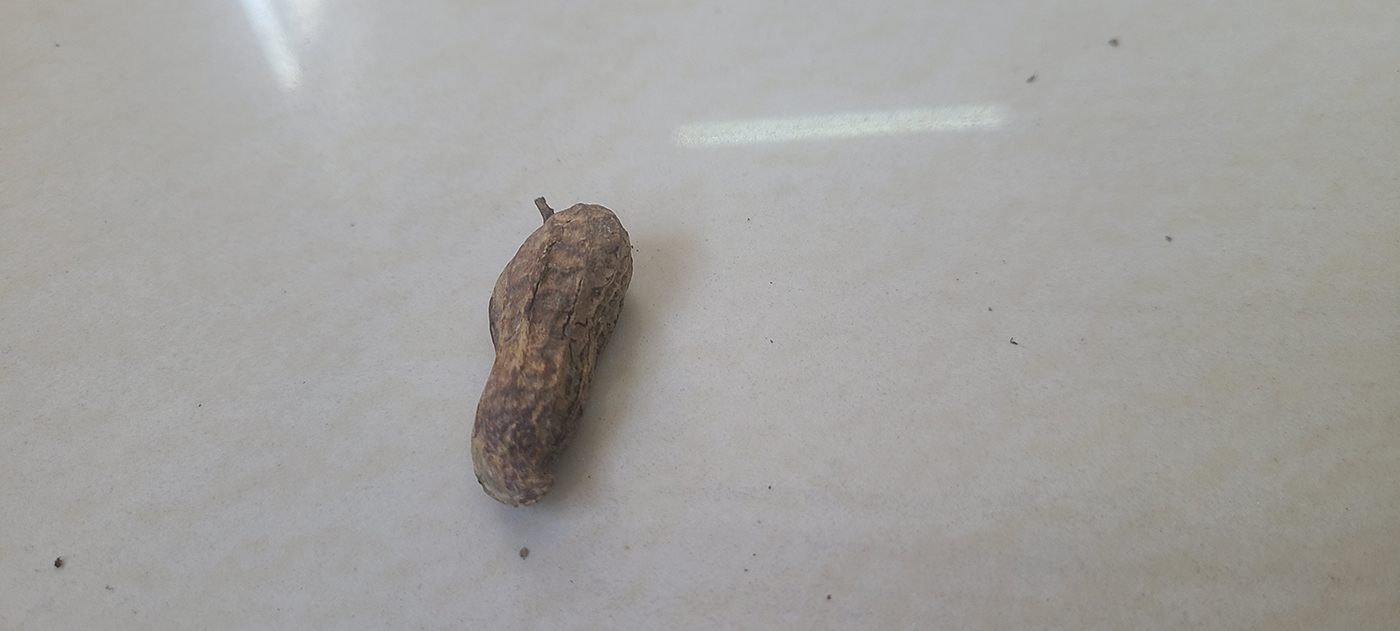l: (469, 202, 636, 506)
